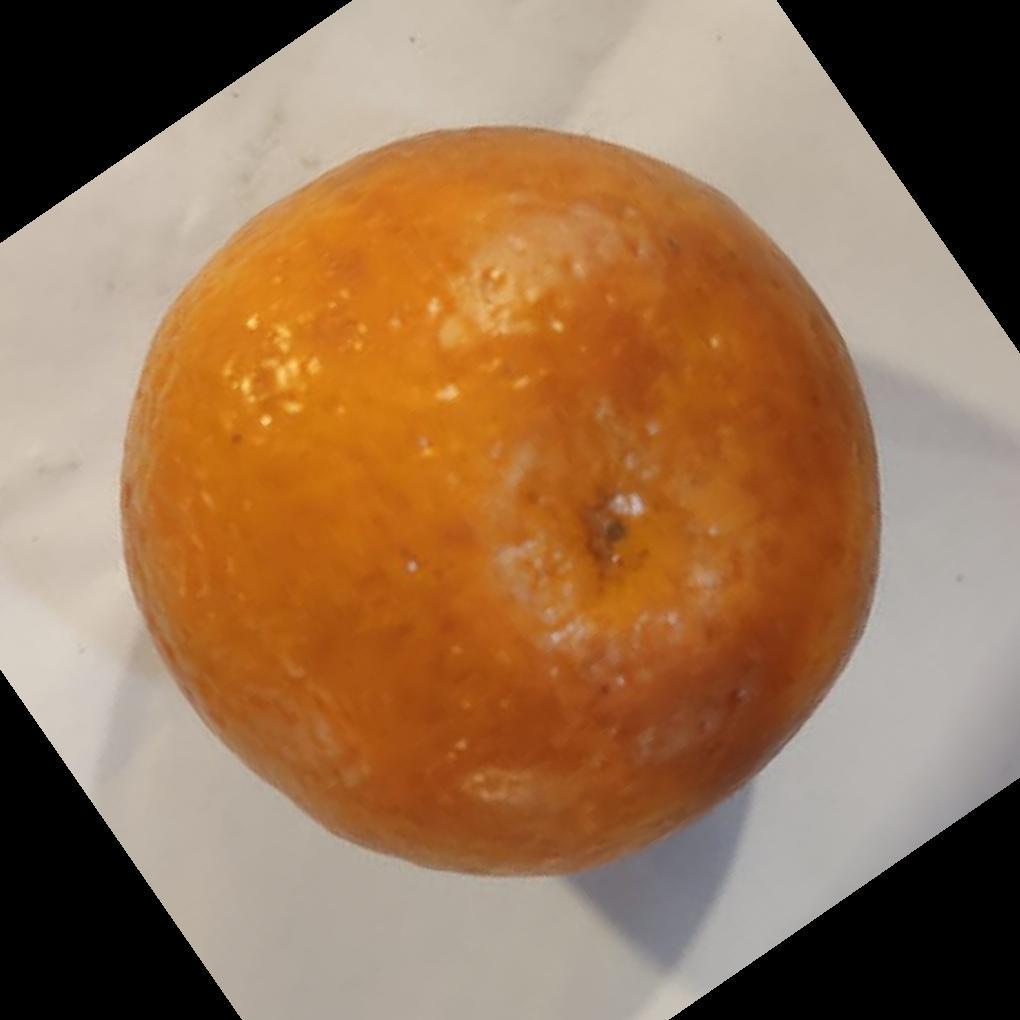FreshOrange: (117, 126, 884, 883)
